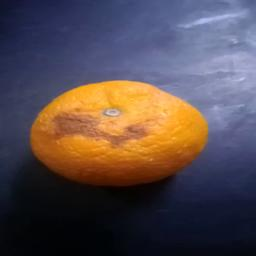Orange Semifresh: (20, 72, 216, 186)
